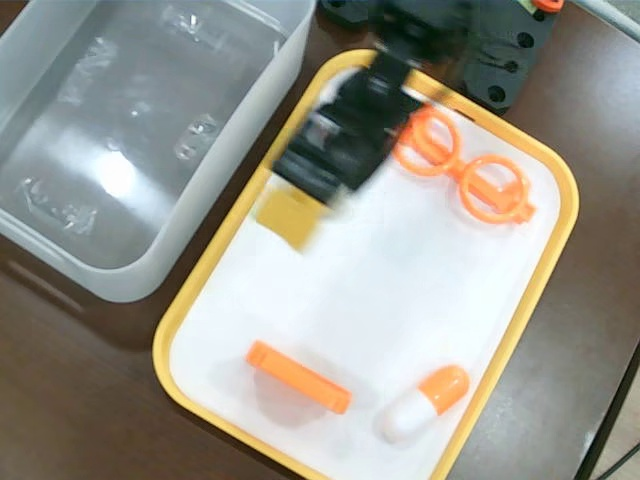pill: (382, 364, 471, 447)
